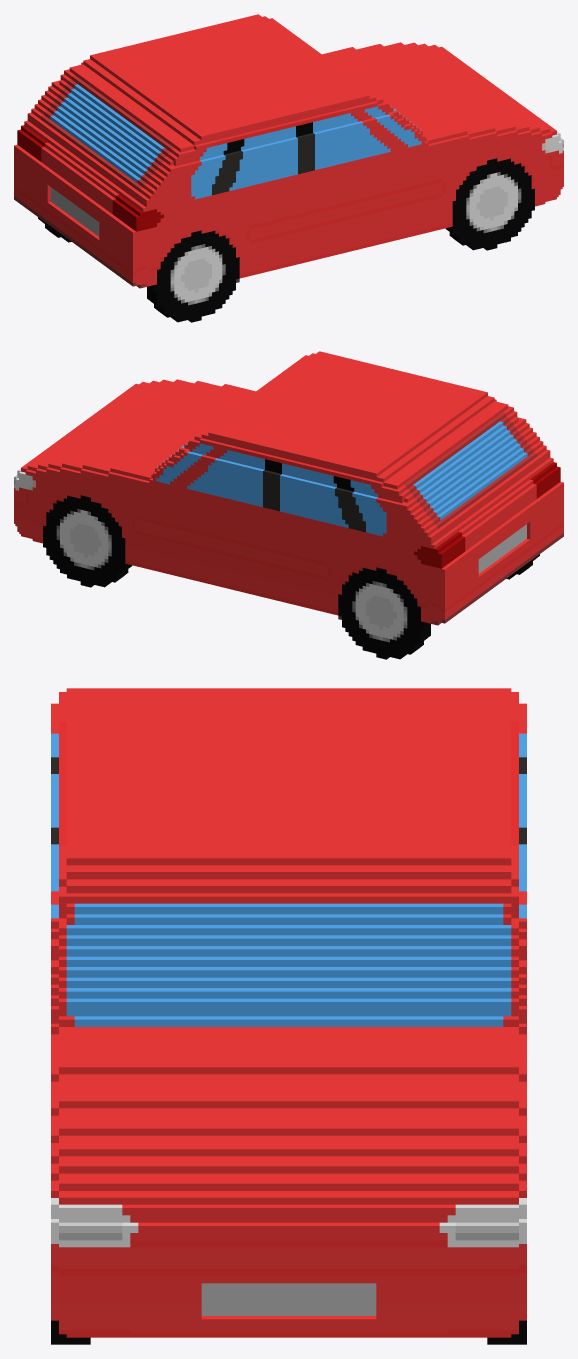
File: car.obj
3 renders of one model, top to bottom at view 1: azimuth 30°, elevation 25°; view 2: azimuth 150°, elevation 25°; view 3: azimuth 270°, elevation 25°, orthographic. The views are drawn at different scales.
Size of the model in its own units: 126 by 50 by 60.
1 material, 1 textured.
